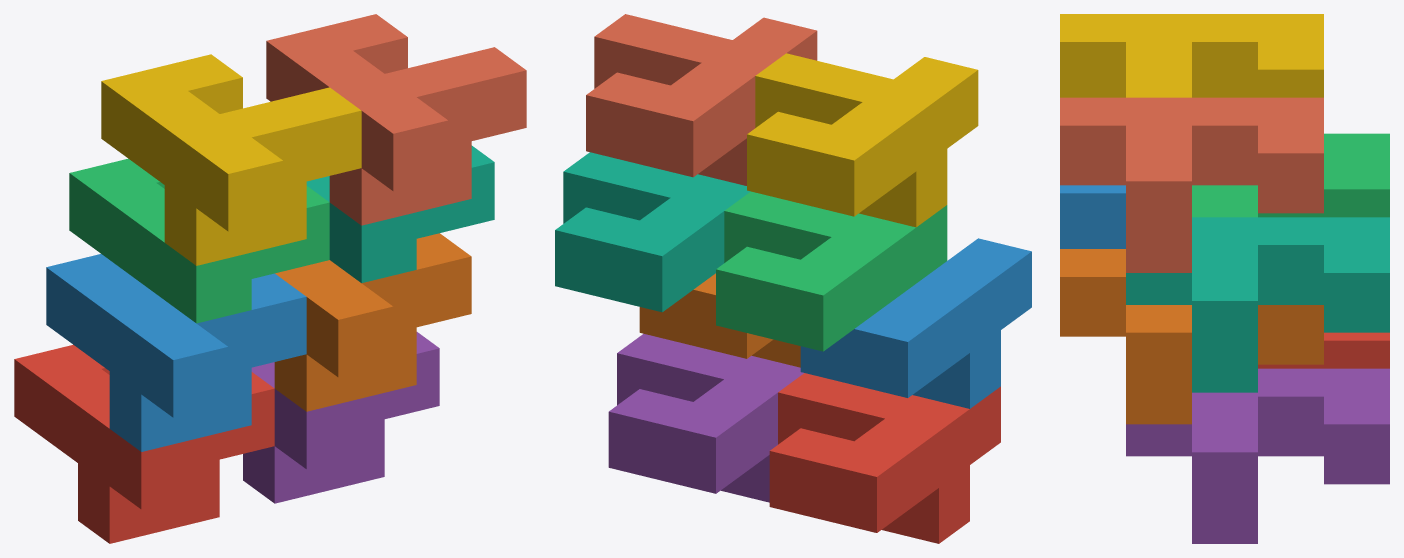
The model's file is tiling.obj.
3 renders of one model, left to right at view 1: azimuth 30°, elevation 25°; view 2: azimuth 150°, elevation 25°; view 3: azimuth 270°, elevation 25°, orthographic. The views are drawn at different scales.
Parts seen in each view (by area): view 1: copy_1_domain_4, copy_1_domain_8, copy_1_domain_2, copy_1_domain_1, copy_1_domain_6, copy_1_domain_3, copy_1_domain_5, copy_1_domain_7; view 2: copy_1_domain_4, copy_1_domain_1, copy_1_domain_8, copy_1_domain_3, copy_1_domain_5, copy_1_domain_7, copy_1_domain_2, copy_1_domain_6; view 3: copy_1_domain_8, copy_1_domain_7, copy_1_domain_5, copy_1_domain_4, copy_1_domain_6, copy_1_domain_3, copy_1_domain_2, copy_1_domain_1.
Part boxes in pixels (box(x1,y1,x2,y2)): copy_1_domain_4: box(101, 54, 361, 265); copy_1_domain_8: box(266, 14, 526, 225); copy_1_domain_2: box(46, 254, 306, 451); copy_1_domain_1: box(14, 344, 274, 543); copy_1_domain_6: box(274, 233, 471, 411); copy_1_domain_3: box(69, 158, 329, 323); copy_1_domain_5: box(243, 332, 439, 503); copy_1_domain_7: box(306, 145, 494, 283); copy_1_domain_4: box(747, 53, 978, 227); copy_1_domain_1: box(769, 373, 1000, 543); copy_1_domain_8: box(586, 14, 817, 185); copy_1_domain_3: box(716, 191, 947, 351); copy_1_domain_5: box(608, 333, 803, 502); copy_1_domain_7: box(555, 152, 750, 312); copy_1_domain_2: box(800, 238, 1031, 408); copy_1_domain_6: box(639, 273, 800, 367); copy_1_domain_8: box(1060, 97, 1323, 272); copy_1_domain_7: box(1126, 217, 1389, 392); copy_1_domain_5: box(1126, 368, 1389, 543); copy_1_domain_4: box(1060, 14, 1323, 97); copy_1_domain_6: box(1060, 249, 1323, 424); copy_1_domain_3: box(1192, 133, 1389, 217); copy_1_domain_2: box(1060, 185, 1125, 248); copy_1_domain_1: box(1258, 332, 1389, 368).
Size of the model in its own units: 7 by 7 by 5.
